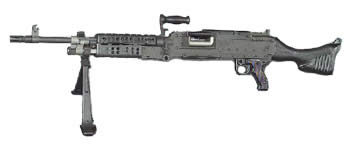rifle: (5, 1, 345, 132)
